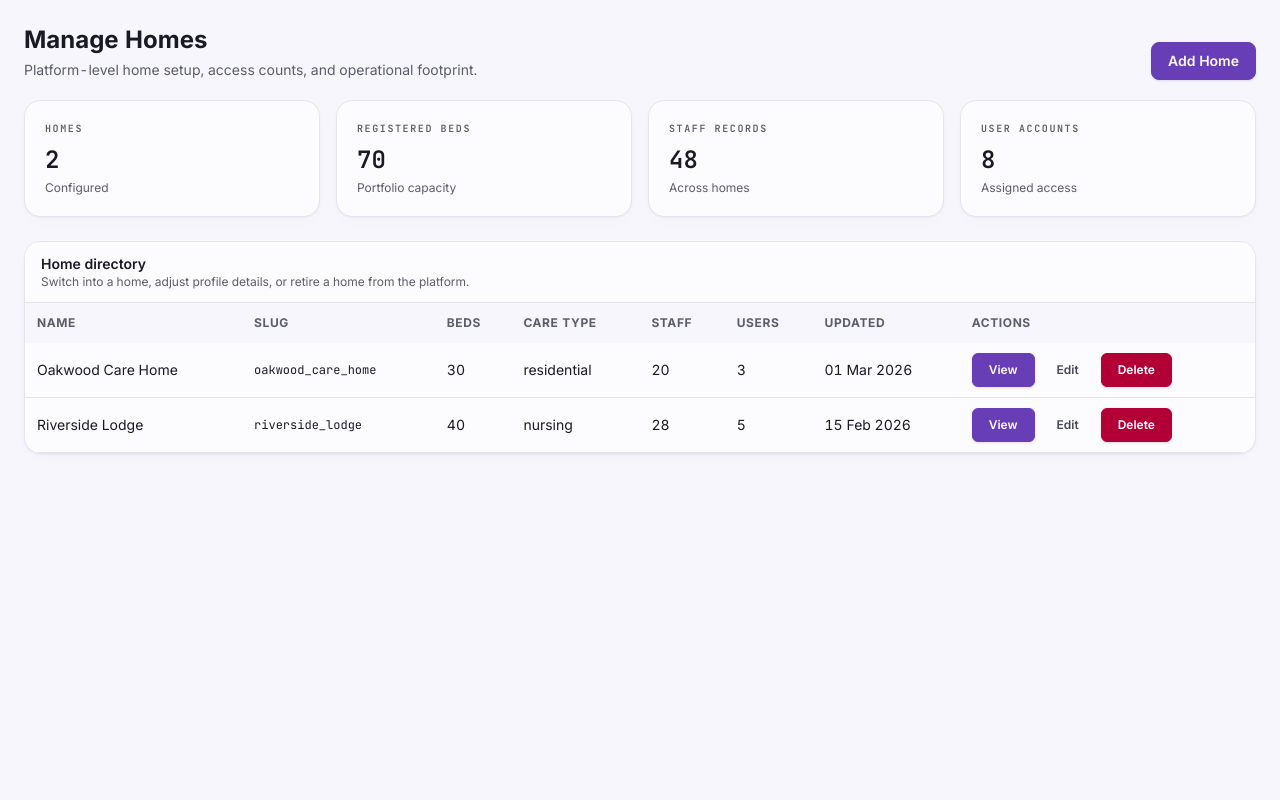
Test: PlatformHomes › opens Create Home modal when Add Home is clicked
The width and height of the screenshot is (1280, 800).
Click the button "Add Home": [1203, 61] box [1151, 42, 1256, 80]
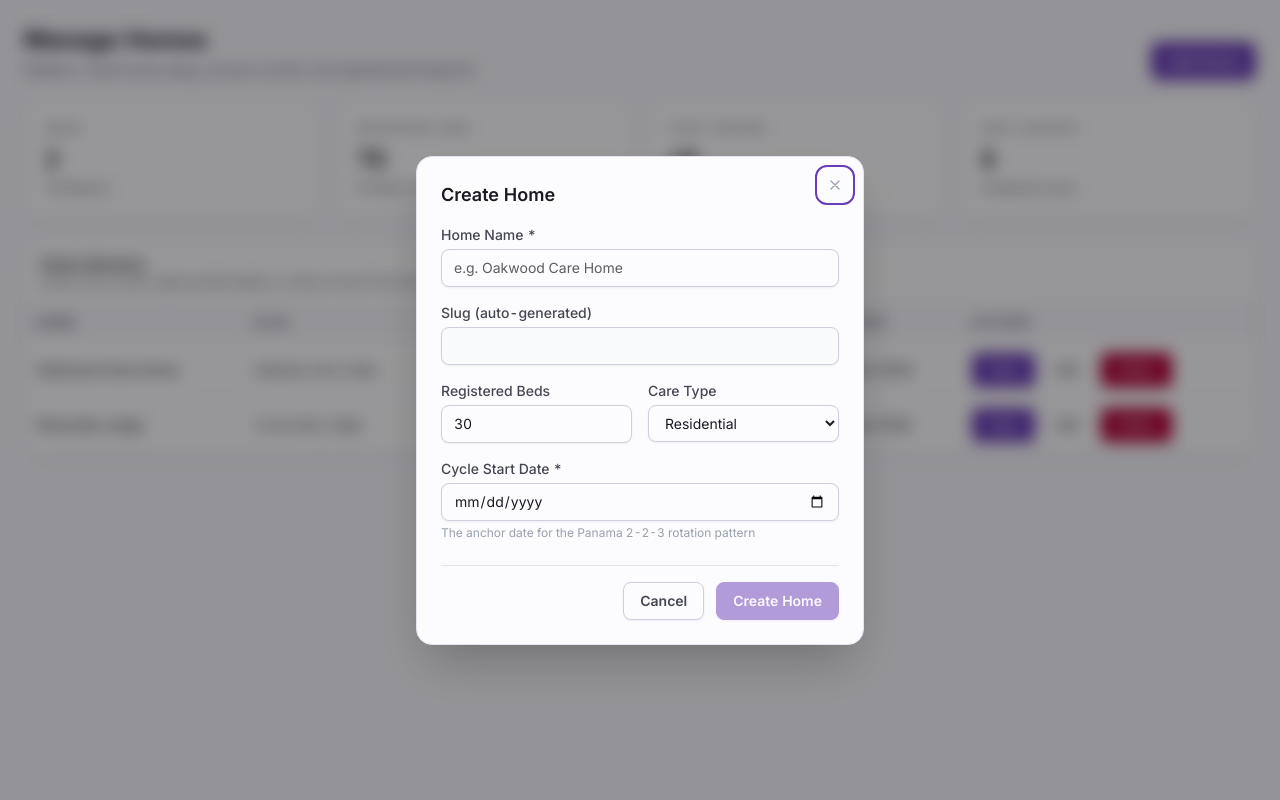
Result: the text "Home Name *" is shown at [441, 226, 536, 242]
Result: the text "Cycle Start Date *" is shown at [441, 460, 562, 476]
Result: the text "Slug (auto-generated)" is shown at [441, 304, 592, 320]
